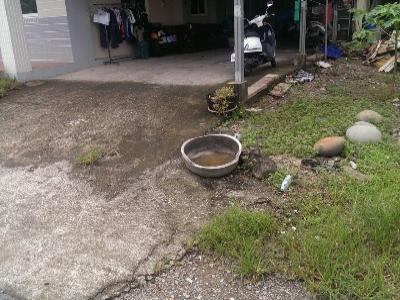bowl: (178, 132, 243, 180)
